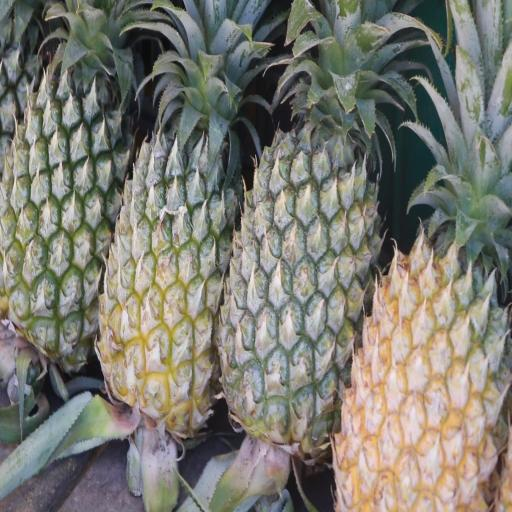------------------------------: (94, 0, 242, 449)
Pineapple - v8 v1: (330, 136, 510, 512)
